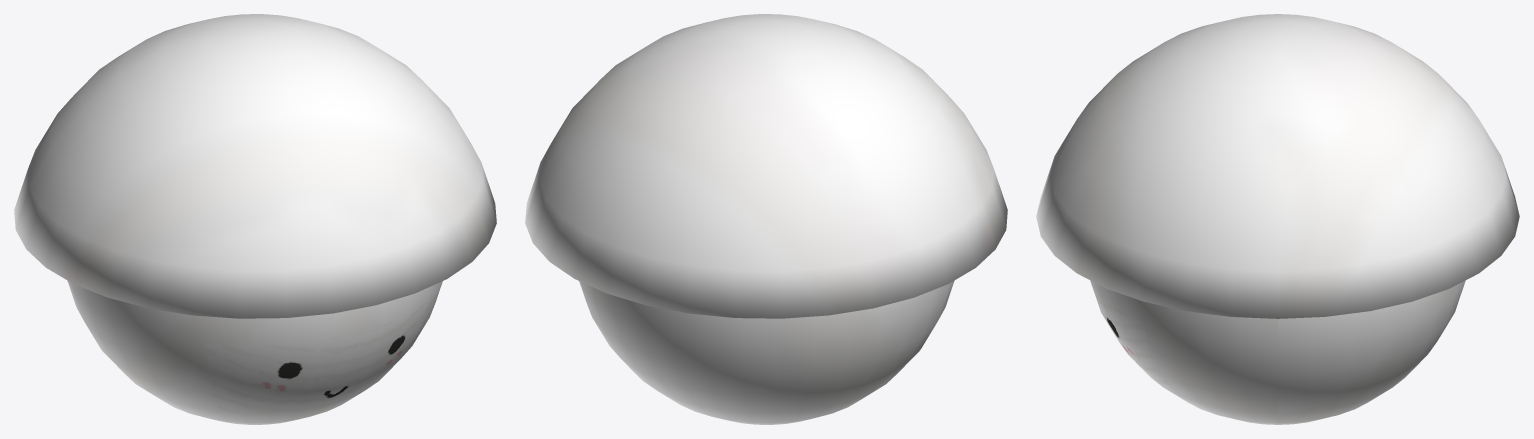
File: POKO-Character1.fbx
3 renders of one model, left to right at view 1: azimuth 30°, elevation 25°; view 2: azimuth 150°, elevation 25°; view 3: azimuth 270°, elevation 25°, orthographic.
Parts seen in each view (by area): view 1: Sphere; view 2: Sphere; view 3: Sphere.
Boxes of the visible parts, x1,y1,x2,y2 form: Sphere: (14,14,496,424); Sphere: (525,14,1007,424); Sphere: (1036,14,1519,424).
Size of the model in its own units: 2.48 by 2.09 by 2.48.
1 material, 1 textured.
